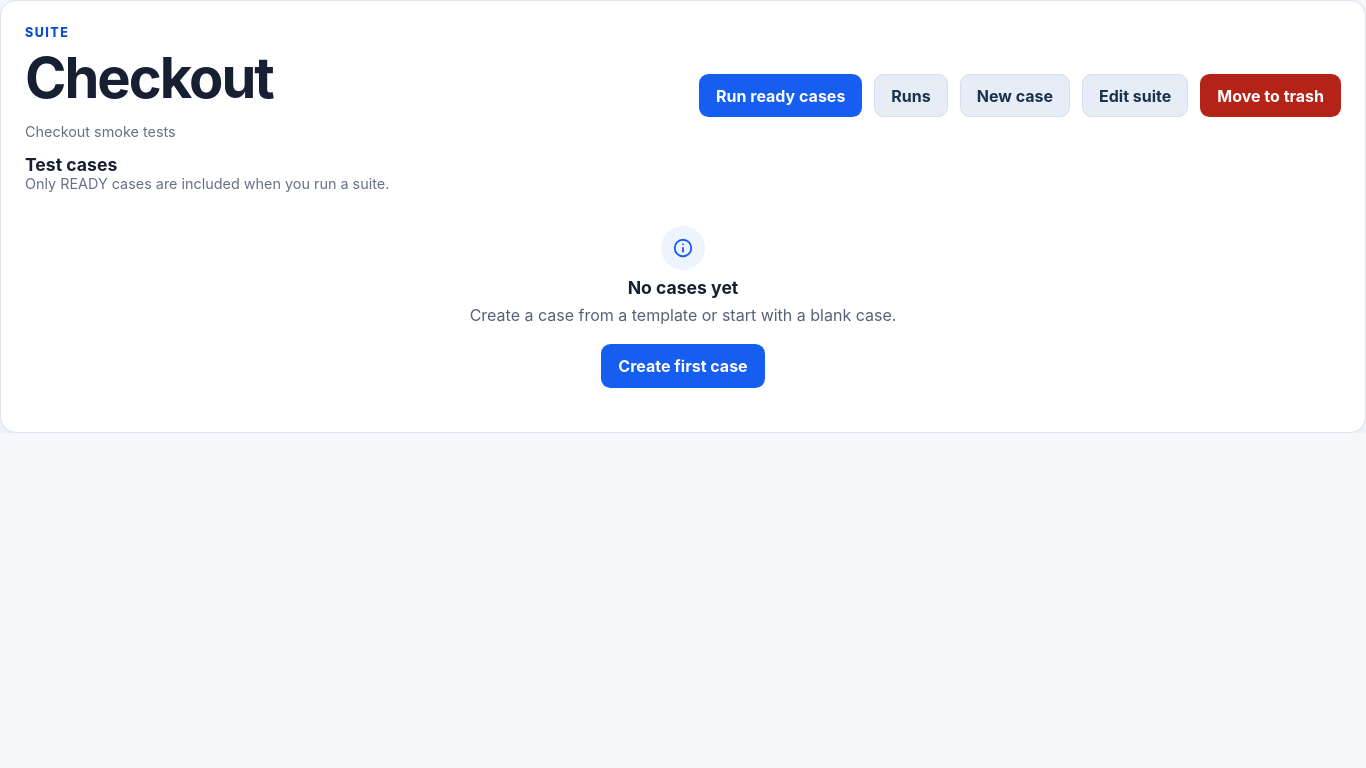
Test: suite recovery surfaces › shows distinct no_ready_cases guidance when a suite run cannot queue
The width and height of the screenshot is (1366, 768).
Click the button "Run ready cases": (781, 96) x1=699 y1=74 x2=862 y2=118
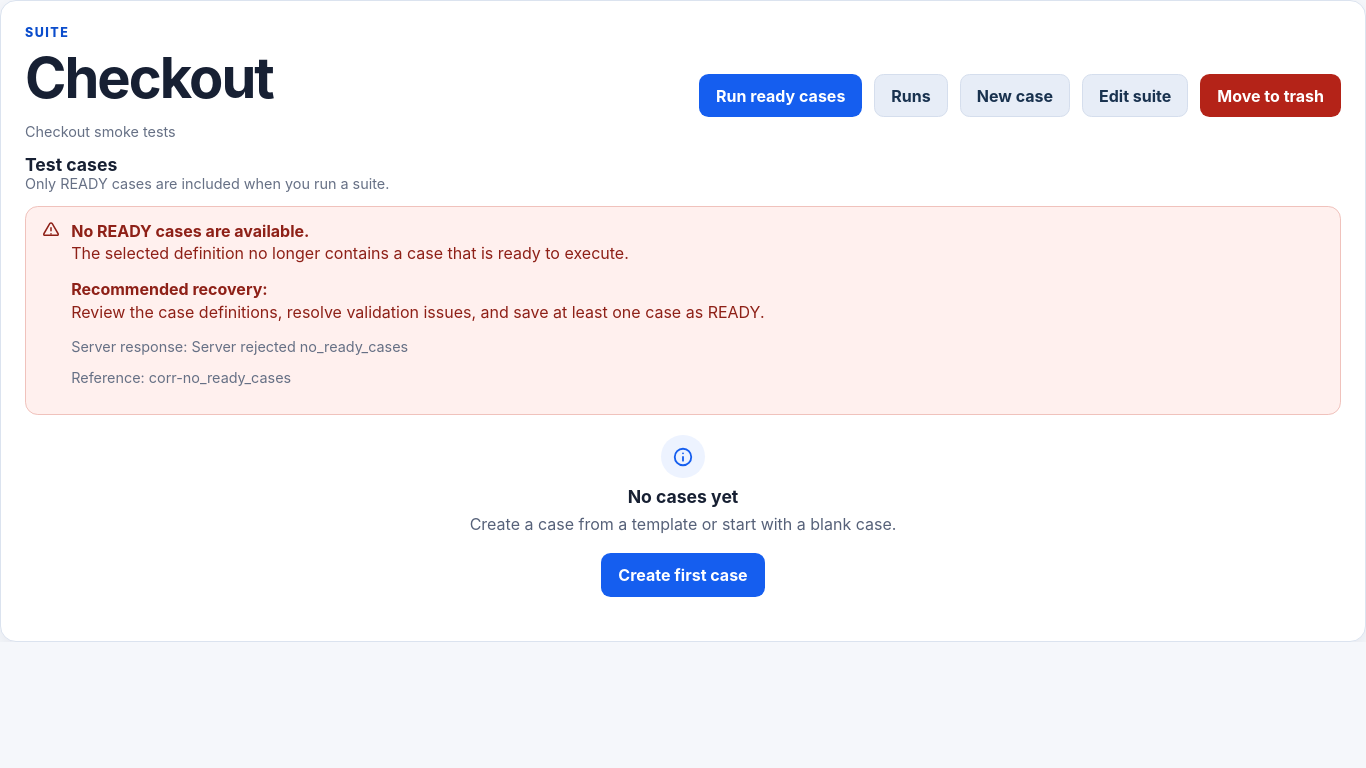
Expected: the message shows "No READY cases are available.", x1=71 y1=221 x2=309 y2=241
Expected: the message shows "save at least one case as READY", x1=71 y1=302 x2=764 y2=322
